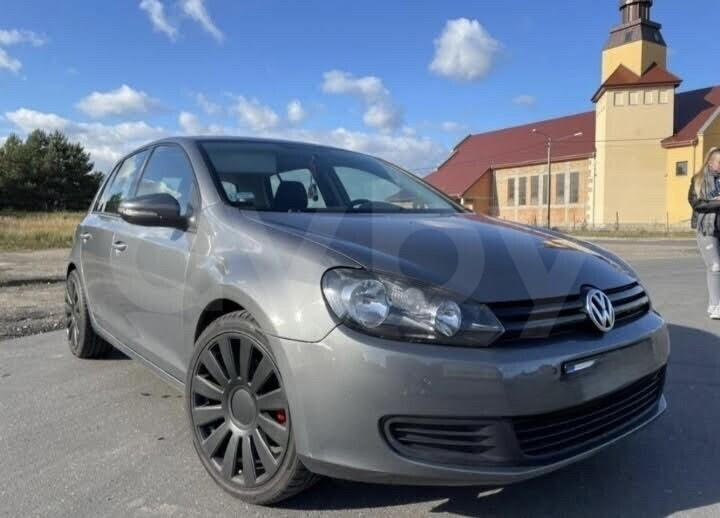Golf_2008-2013: (60, 132, 668, 505)
